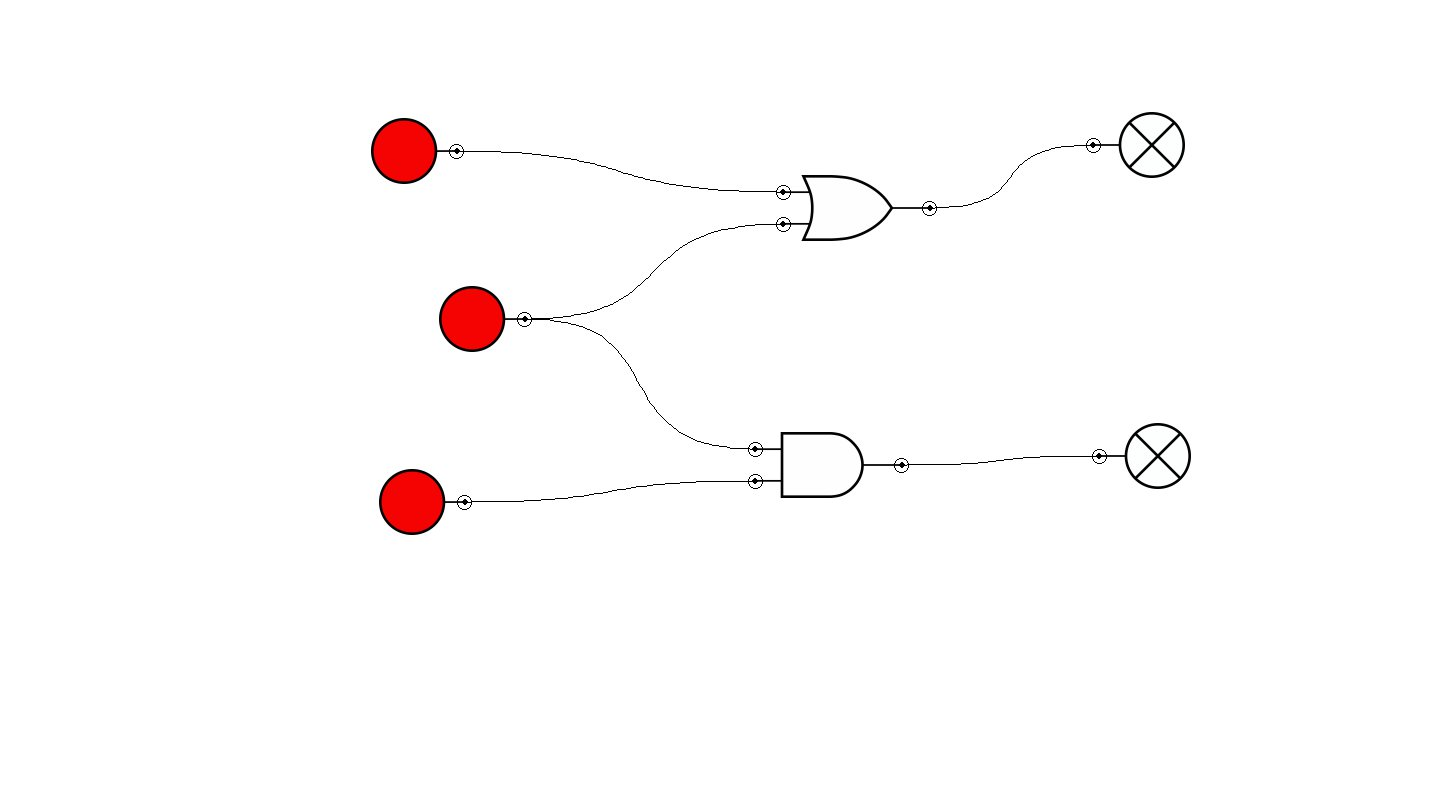and: (748, 432, 909, 498)
bulb: (1086, 112, 1185, 178), (1092, 423, 1191, 489)
or: (776, 175, 937, 241)
switch_False: (379, 469, 472, 535), (371, 118, 464, 184), (439, 286, 532, 352)
